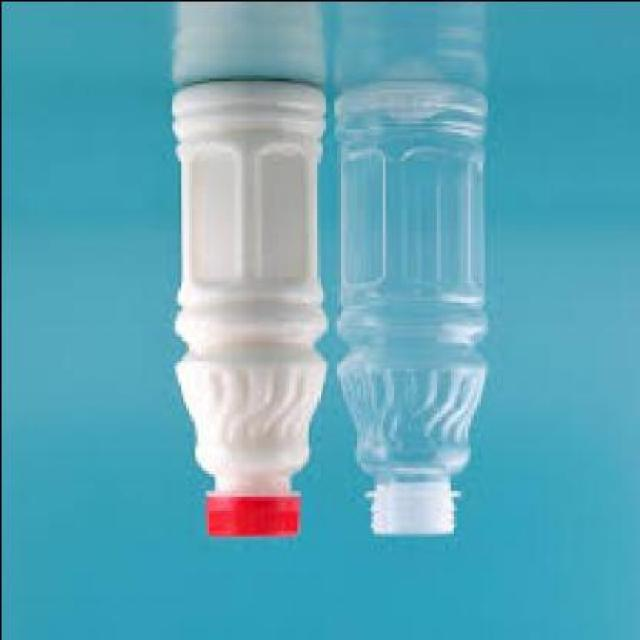PLASTIC: (170, 82, 333, 538), (338, 79, 489, 538), (202, 494, 302, 538)
